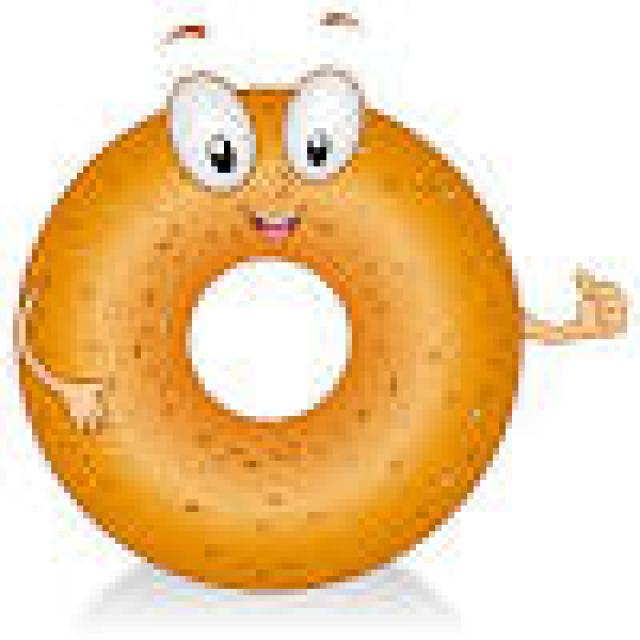Bacon: (20, 66, 518, 587)
